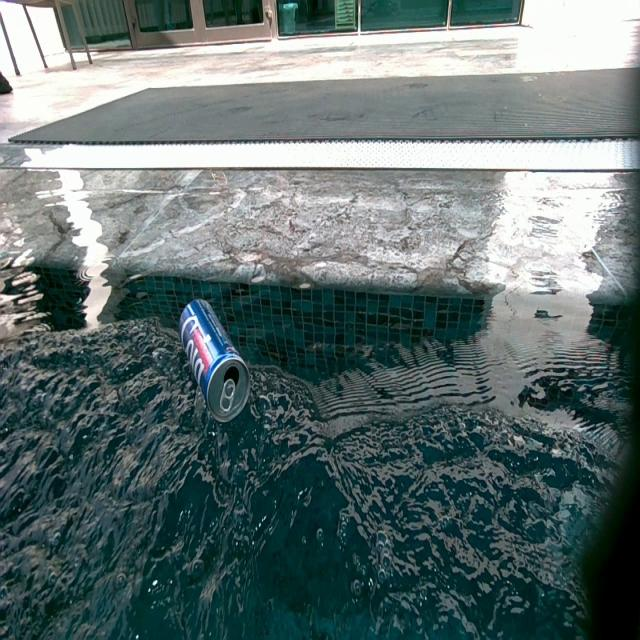Cans: (180, 299, 256, 429)
